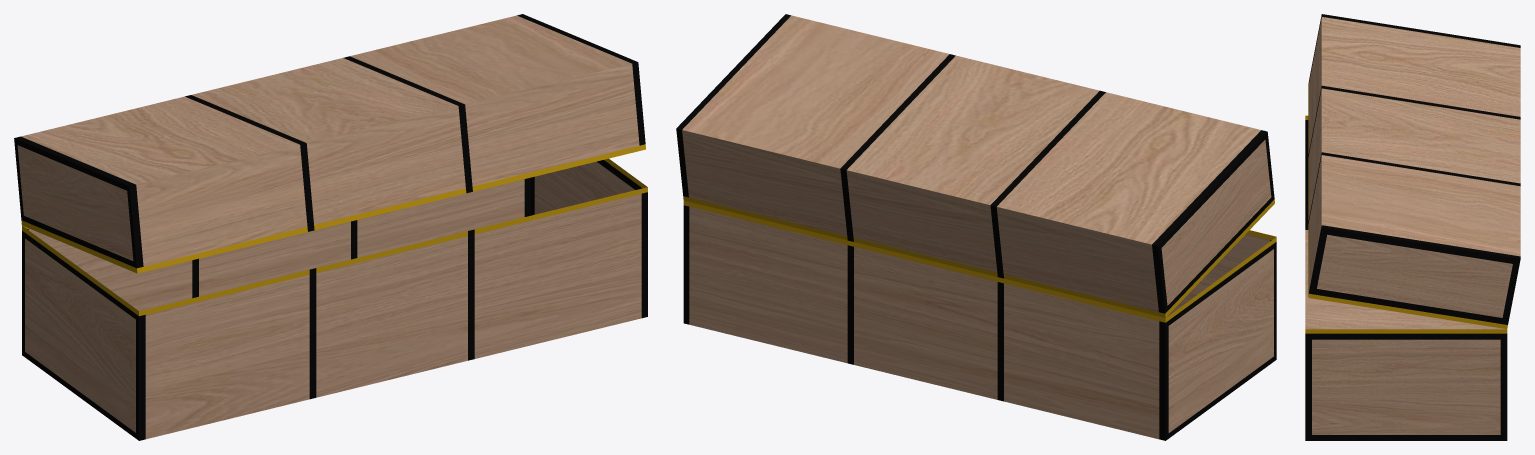
The model's file is chest.glb.
The picture shows the model from 3 angles, left to right: view 1: azimuth 30°, elevation 25°; view 2: azimuth 150°, elevation 25°; view 3: azimuth 270°, elevation 25°; orthographic projection. The views are drawn at different scales.
Visible parts, largest first — view 1: Cube.003; view 2: Cube.003; view 3: Cube.003.
Part boxes in pixels (x1,y1,x2,y2): Cube.003: [14, 14, 647, 440]; Cube.003: [676, 14, 1276, 440]; Cube.003: [1305, 14, 1520, 440].
Bounding box in the file's own units: 5.01 × 2.33 × 2.13.
Materials: 3 (1 with a texture image).
